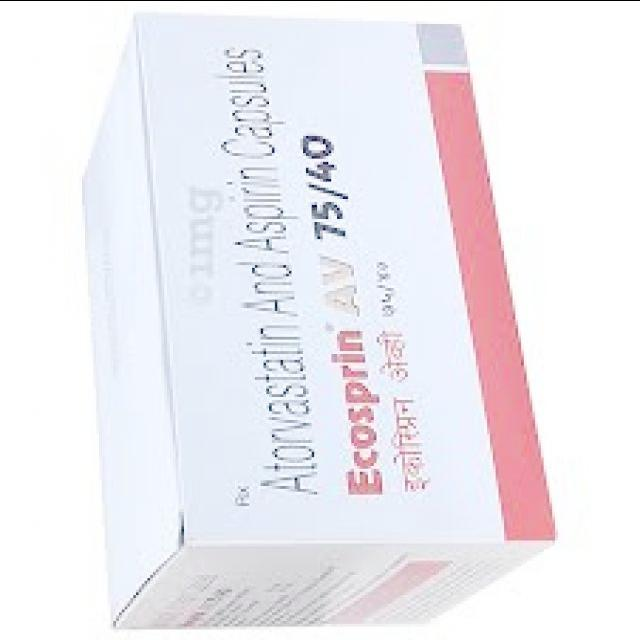authentic: (65, 0, 572, 638)
